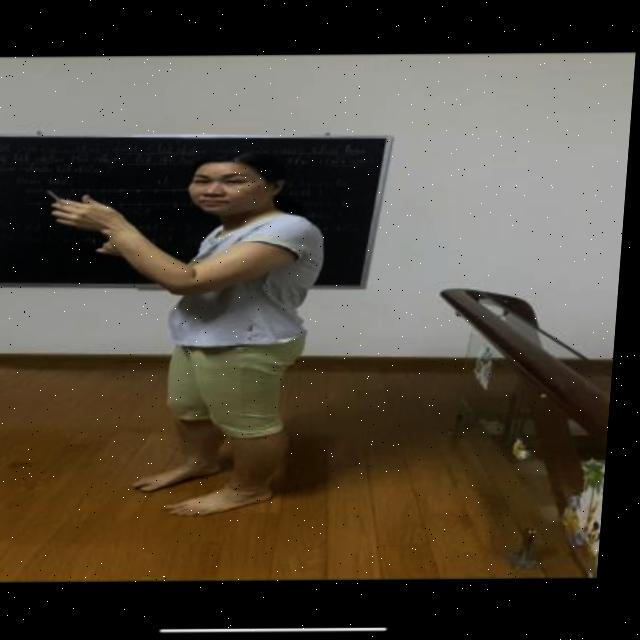cigarette: (47, 190, 68, 205)
